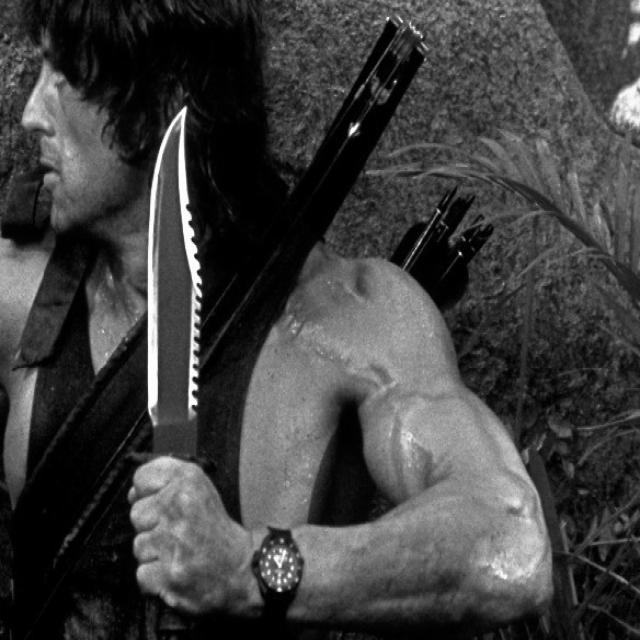knife: (144, 108, 202, 631)
